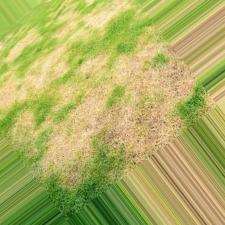patch: (69, 99, 112, 130), (42, 137, 90, 164), (128, 109, 158, 139), (137, 37, 166, 64), (87, 56, 124, 76), (1, 83, 26, 109), (164, 69, 187, 97), (126, 76, 154, 96), (31, 68, 64, 81), (104, 139, 134, 151), (8, 34, 19, 64), (17, 120, 40, 132), (164, 105, 176, 125), (43, 53, 68, 62), (23, 27, 32, 48), (87, 14, 109, 22), (51, 85, 68, 93), (53, 15, 72, 21), (66, 36, 80, 43), (57, 27, 74, 31)
